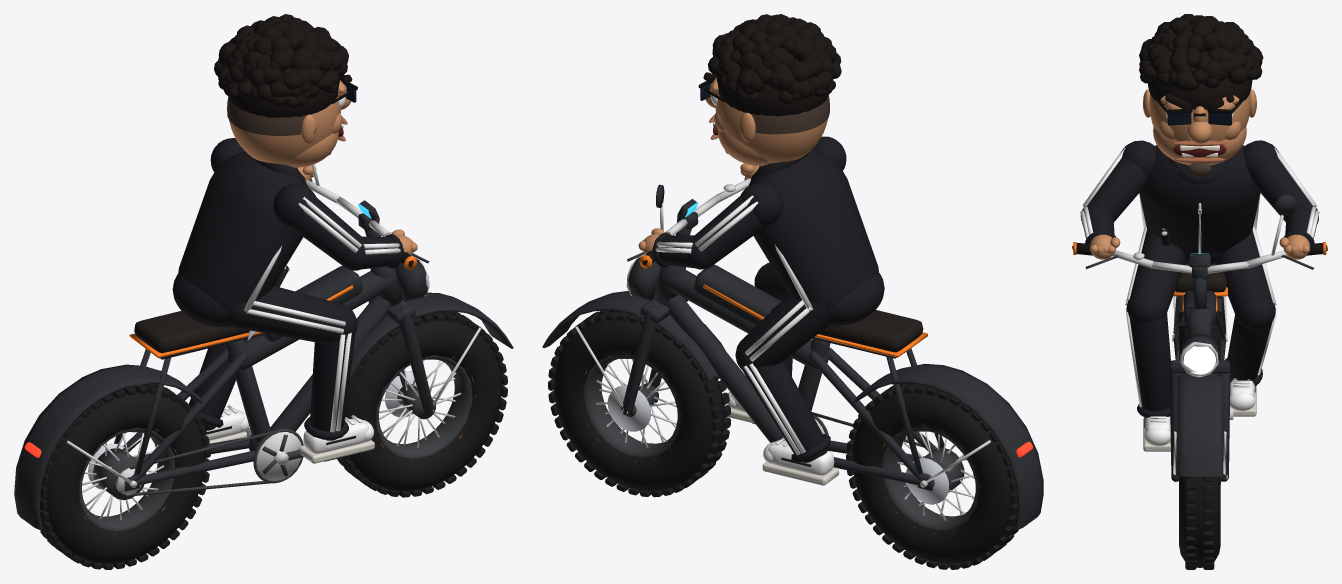
Rendered from fatbiker_lod.glb.
3 views of the same model, side by side, from view 1: azimuth 30°, elevation 25°; view 2: azimuth 150°, elevation 25°; view 3: azimuth 270°, elevation 25° (orthographic). The views are drawn at different scales.
Visible parts, largest first — view 1: Bike_Frame, Bike_WheelRear, Bike_WheelFront, Rider_Torso, Rider_Hair, Rider_LegR, Rider_ArmR, Rider_Head, Rider_LegL, Bike_Crank, Bike_Handlebar, Rider_ArmL; view 2: Bike_Frame, Bike_WheelFront, Bike_WheelRear, Rider_Torso, Rider_Hair, Rider_LegL, Rider_ArmL, Rider_Head, Bike_Handlebar, Rider_LegR, Rider_ArmR; view 3: Bike_Frame, Rider_Torso, Rider_Hair, Rider_LegR, Rider_LegL, Rider_Head, Rider_ArmR, Rider_ArmL, Bike_WheelFront, Bike_Handlebar, Rider_Sunglasses, Bike_WheelRear.
Boxes of the visible parts, x1=… form: Bike_Frame: x1=14, y1=258, x2=513, y2=530; Bike_WheelRear: x1=39, y1=383, x2=210, y2=569; Bike_WheelFront: x1=337, y1=311, x2=507, y2=497; Rider_Torso: x1=172, y1=151, x2=308, y2=327; Rider_Hair: x1=214, y1=14, x2=348, y2=135; Rider_LegR: x1=226, y1=286, x2=374, y2=463; Rider_ArmR: x1=273, y1=184, x2=417, y2=270; Rider_Head: x1=229, y1=74, x2=352, y2=167; Rider_LegL: x1=188, y1=339, x2=249, y2=443; Bike_Crank: x1=245, y1=428, x2=348, y2=483; Bike_Handlebar: x1=306, y1=164, x2=429, y2=269; Rider_ArmL: x1=210, y1=138, x2=316, y2=180; Bike_Frame: x1=542, y1=256, x2=1043, y2=529; Bike_WheelFront: x1=548, y1=310, x2=730, y2=497; Bike_WheelRear: x1=846, y1=383, x2=1018, y2=569; Rider_Torso: x1=748, y1=150, x2=884, y2=326; Rider_Hair: x1=708, y1=14, x2=841, y2=134; Rider_LegL: x1=735, y1=294, x2=839, y2=485; Rider_ArmL: x1=638, y1=182, x2=783, y2=269; Rider_Head: x1=703, y1=72, x2=827, y2=166; Bike_Handlebar: x1=627, y1=176, x2=750, y2=268; Rider_LegR: x1=727, y1=262, x2=792, y2=423; Rider_ArmR: x1=740, y1=136, x2=846, y2=178; Bike_Frame: x1=1169, y1=263, x2=1230, y2=481; Rider_Torso: x1=1139, y1=145, x2=1260, y2=263; Rider_Hair: x1=1139, y1=14, x2=1263, y2=109; Rider_LegR: x1=1125, y1=227, x2=1185, y2=451; Rider_LegL: x1=1215, y1=227, x2=1276, y2=416; Rider_Head: x1=1143, y1=89, x2=1256, y2=176; Rider_ArmR: x1=1080, y1=140, x2=1156, y2=259; Rider_ArmL: x1=1243, y1=140, x2=1319, y2=259; Bike_WheelFront: x1=1179, y1=475, x2=1227, y2=569; Bike_Handlebar: x1=1072, y1=194, x2=1327, y2=309; Rider_Sunglasses: x1=1158, y1=102, x2=1241, y2=125; Bike_WheelRear: x1=1172, y1=312, x2=1227, y2=360.
Bounding box in the file's own units: 1.91 × 1.9 × 0.9218.
